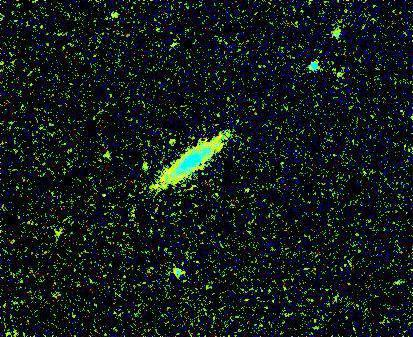star: (156, 130, 186, 160)
